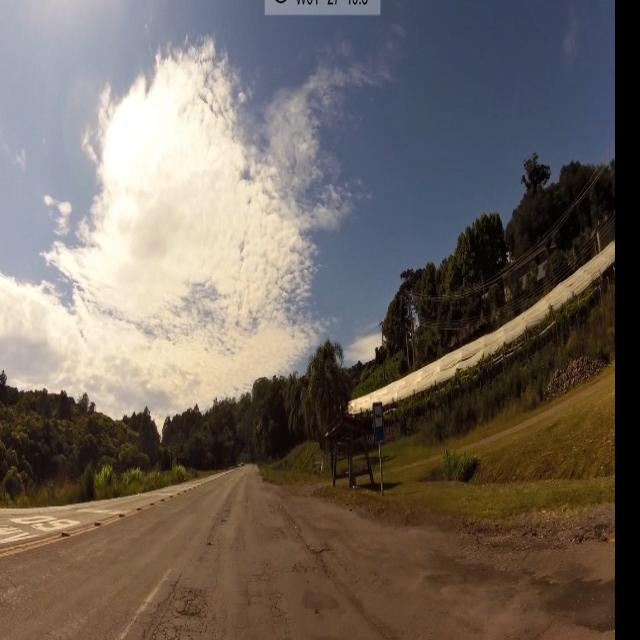S-14: (373, 401, 384, 445)
